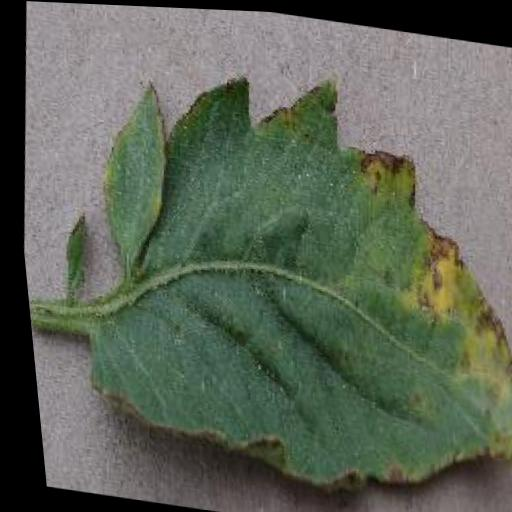Bacterial Spot: (38, 34, 512, 512)
